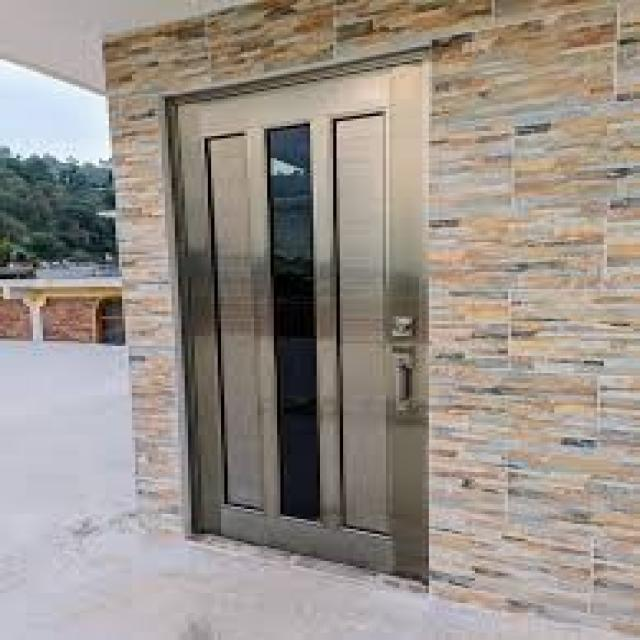door: (162, 47, 432, 588)
